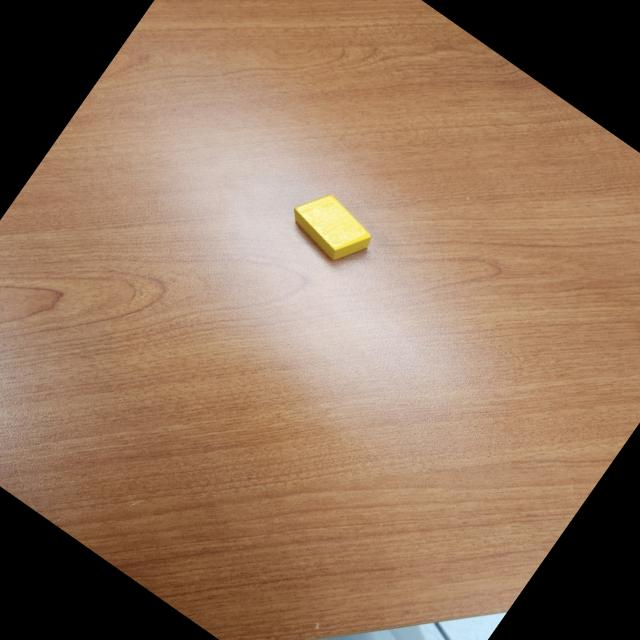yellow: (281, 182, 381, 274)
